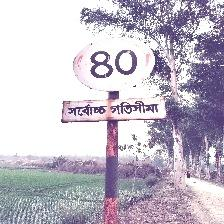Speed-limit: (64, 36, 166, 123)
